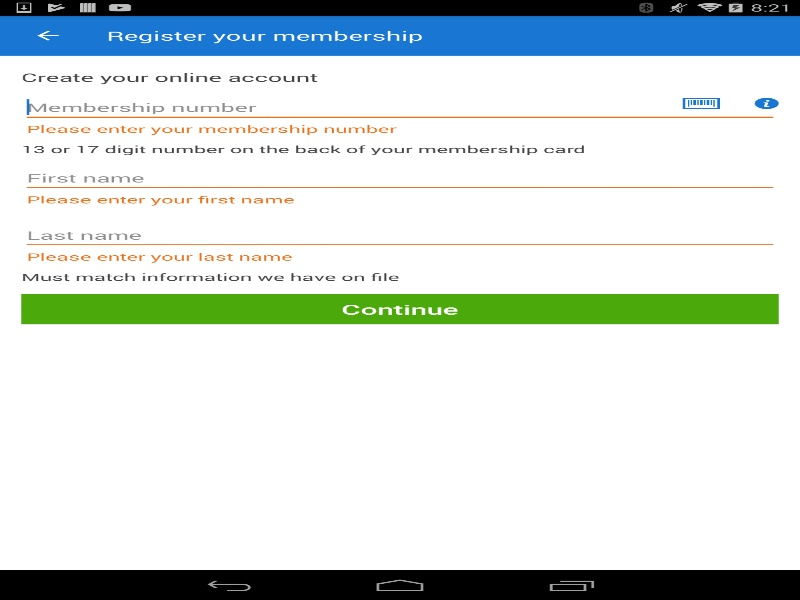Button: (21, 293, 778, 325), (10, 15, 85, 55), (682, 97, 720, 109), (754, 97, 778, 109)
Input: (21, 220, 778, 250), (21, 93, 778, 122), (21, 163, 778, 192)
